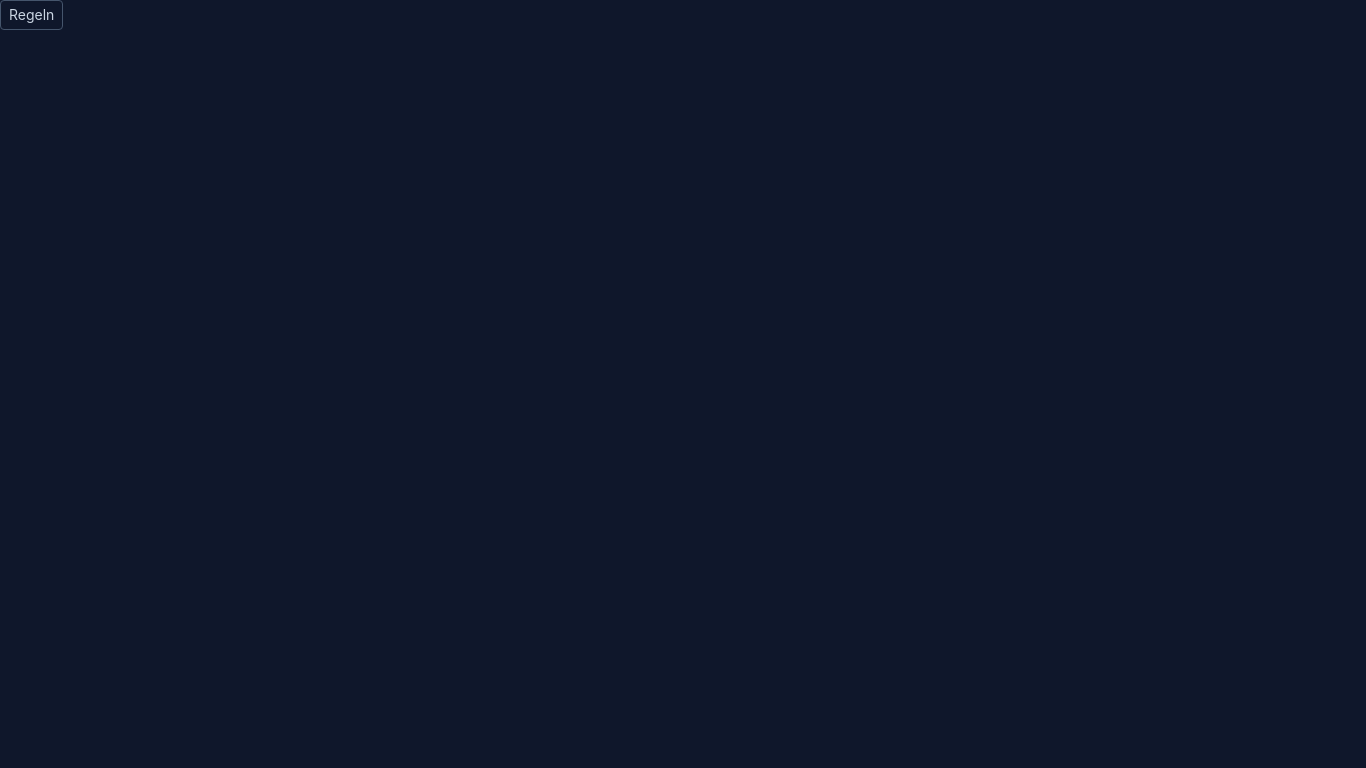
it: RulesButton › closes when the close button is clicked
Click the button "Regeln": click(32, 15) [0,0,63,30]
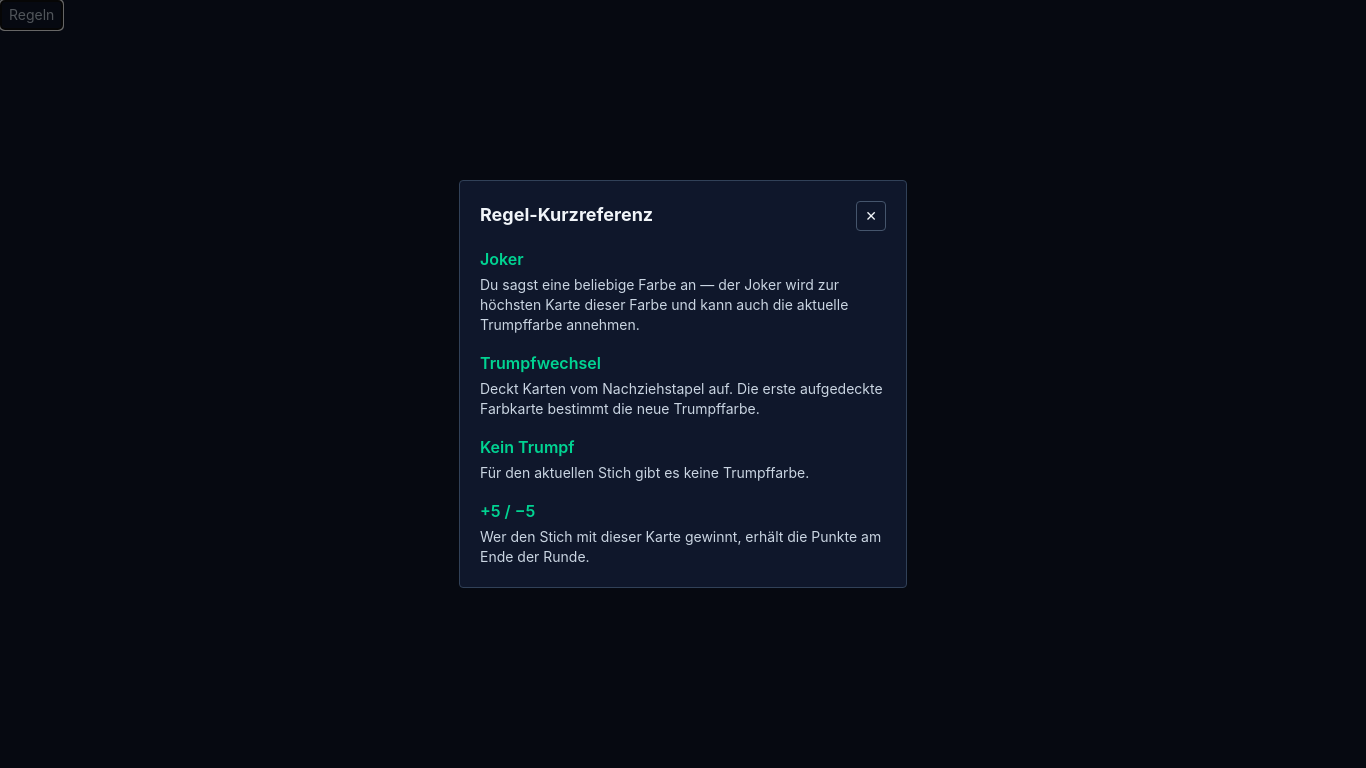
Click the button named "schließen": click(871, 216) [856,201,886,231]
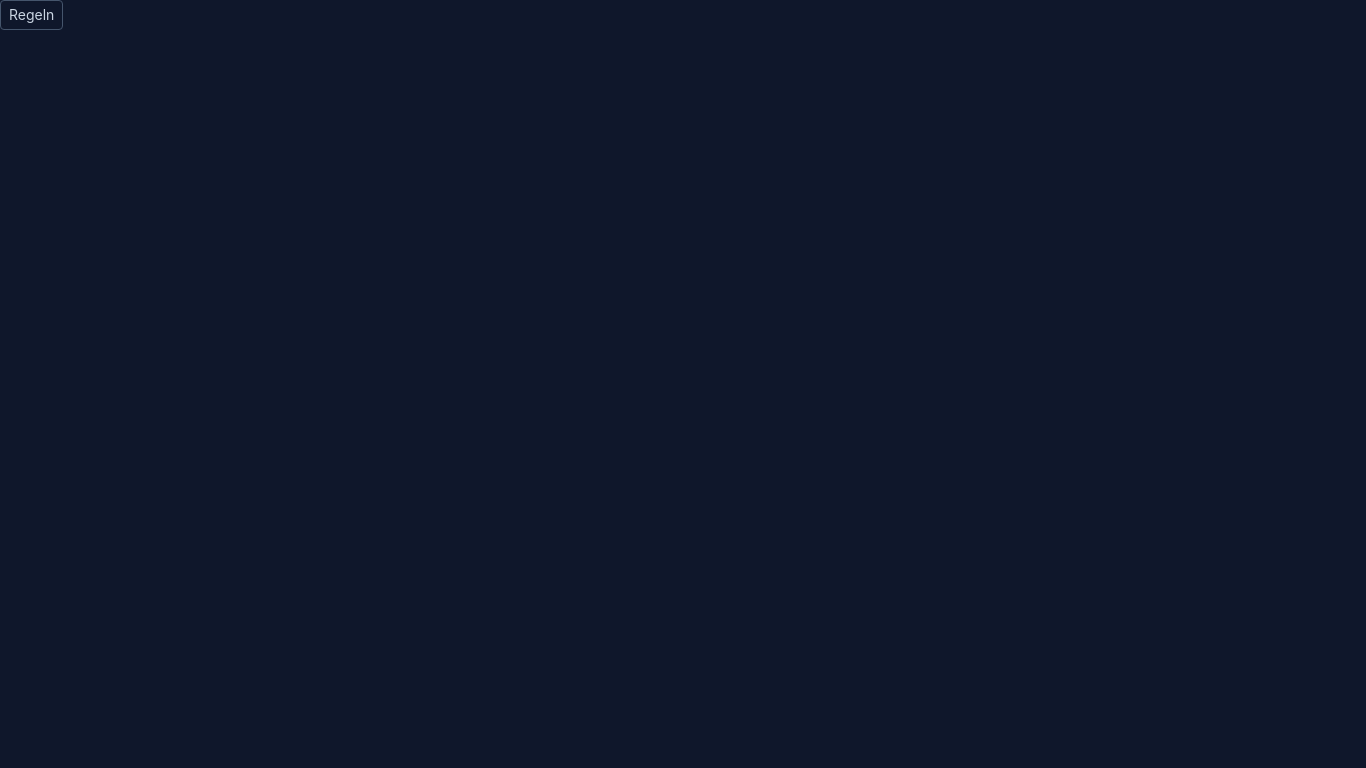
Expected: the dialog is gone
